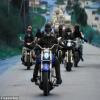motorcycles: (36, 42, 57, 94), (20, 39, 36, 67), (63, 38, 74, 72), (73, 36, 84, 66)
